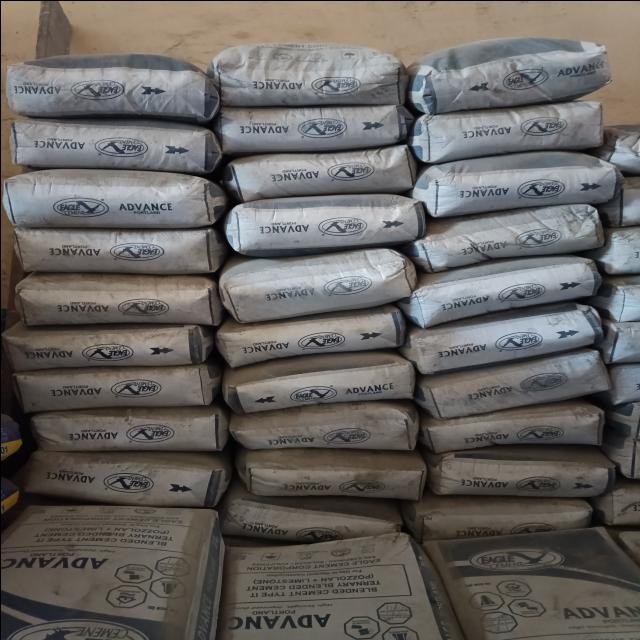Cement: (224, 261, 415, 315), (18, 59, 208, 113), (217, 47, 407, 101), (420, 48, 610, 102), (421, 108, 612, 156), (216, 104, 407, 152), (18, 122, 209, 170), (12, 175, 203, 223), (226, 200, 417, 248), (228, 149, 419, 197), (423, 159, 614, 207), (409, 315, 612, 360), (416, 364, 619, 409), (423, 403, 626, 448), (427, 445, 630, 490), (406, 269, 609, 314), (224, 360, 411, 408), (19, 364, 206, 412), (37, 404, 224, 452), (29, 454, 216, 502), (208, 316, 411, 360), (231, 455, 434, 499), (227, 405, 430, 449), (15, 232, 213, 275), (23, 281, 221, 324), (9, 324, 207, 367), (411, 214, 600, 258)
